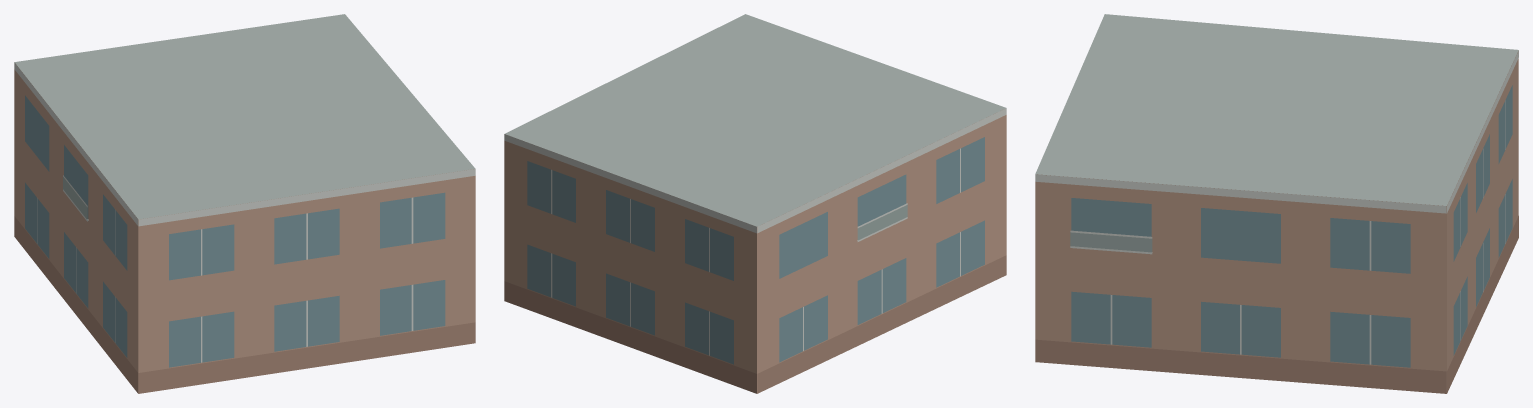
File: survey-upis-32681357.glb
The picture shows the model from 3 angles, left to right: view 1: azimuth 30°, elevation 25°; view 2: azimuth 150°, elevation 25°; view 3: azimuth 270°, elevation 25°; orthographic projection. The views are drawn at different scales.
Parts seen in each view (by area): view 1: survey-upis-32681357.tmp; view 2: survey-upis-32681357.tmp; view 3: survey-upis-32681357.tmp.
Boxes of the visible parts, x1,y1,x2,y2 form: survey-upis-32681357.tmp: [14, 14, 475, 393]; survey-upis-32681357.tmp: [504, 14, 1006, 393]; survey-upis-32681357.tmp: [1035, 14, 1518, 393].
Bounding box in the file's own units: 13.39 × 6.1 × 14.25.
